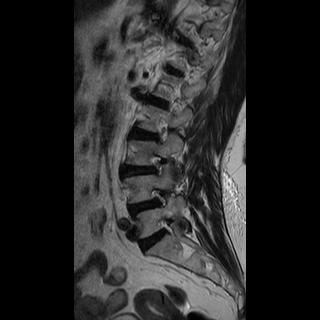LFS2: (144, 149, 171, 181), (146, 183, 173, 212)
